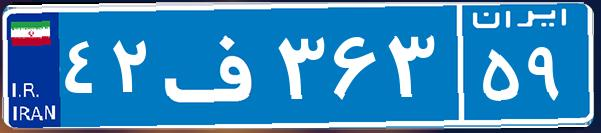2: (110, 28, 158, 105)
3: (385, 28, 445, 110), (273, 28, 330, 110)
4: (57, 26, 110, 107)
5: (475, 38, 525, 113)
6: (330, 28, 385, 110)
9: (525, 38, 570, 115)
ف: (158, 15, 273, 115)
